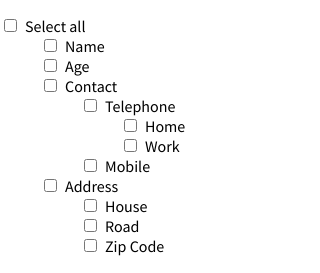
Test: CheckboxTree › toggles Checkboxes
expect the checkbox labelled "Name" is not checked: met, box [44,39,57,52]
Click the checkbox labelled "Select all": click(10, 26) [4,19,17,32]
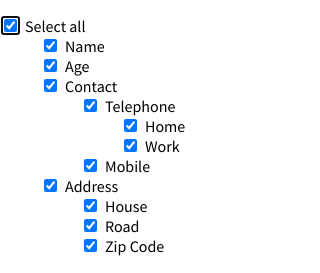
expect the checkbox labelled "Select all" is checked: met, box [4,19,17,32]
expect the checkbox labelled "Name" is checked: met, box [44,39,57,52]
